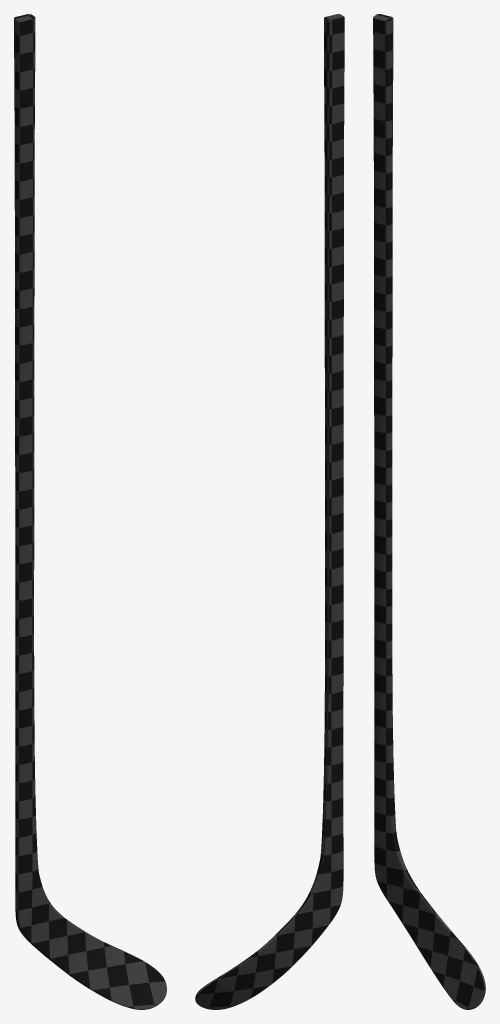
File: P28-SBO.glb
3 views of the same model, side by side, from view 1: azimuth 30°, elevation 25°; view 2: azimuth 210°, elevation 25°; view 3: azimuth 330°, elevation 25° (orthographic). The views are drawn at different scales.
Visible parts, largest first — view 1: geometry_0; view 2: geometry_0; view 3: geometry_0.
Boxes of the visible parts, <box> form: geometry_0: <box>14,14,166,1009</box>; geometry_0: <box>195,14,344,1009</box>; geometry_0: <box>373,14,485,1009</box>.
Bounding box in the file's own units: 229 × 1650 × 71.56.
Materials: 1 (1 with a texture image).
